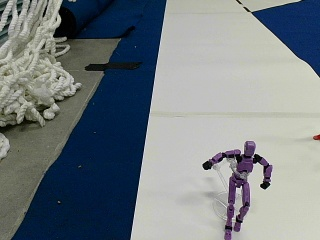pedestrian: (203, 140, 271, 234)
